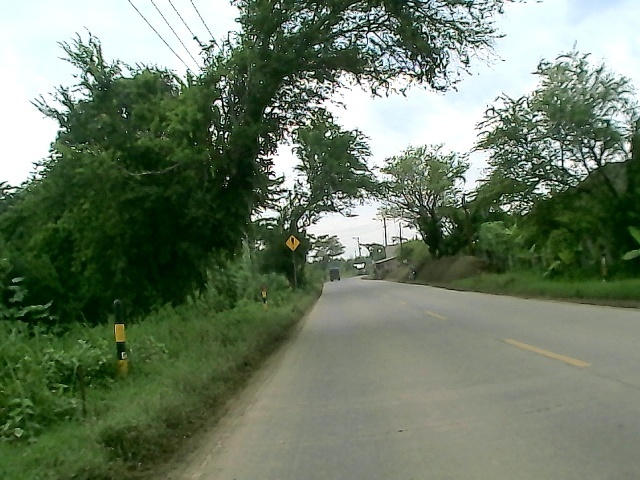Hati-hati: (283, 233, 301, 253)
